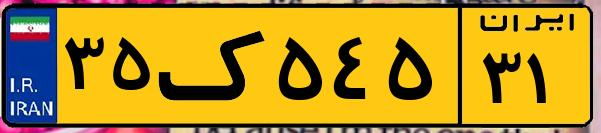1: (525, 38, 570, 115)
3: (57, 26, 110, 100), (475, 38, 525, 113)
4: (330, 28, 385, 110)
5: (270, 28, 330, 110), (385, 28, 445, 110), (110, 28, 158, 98)
ک: (158, 12, 270, 120)
